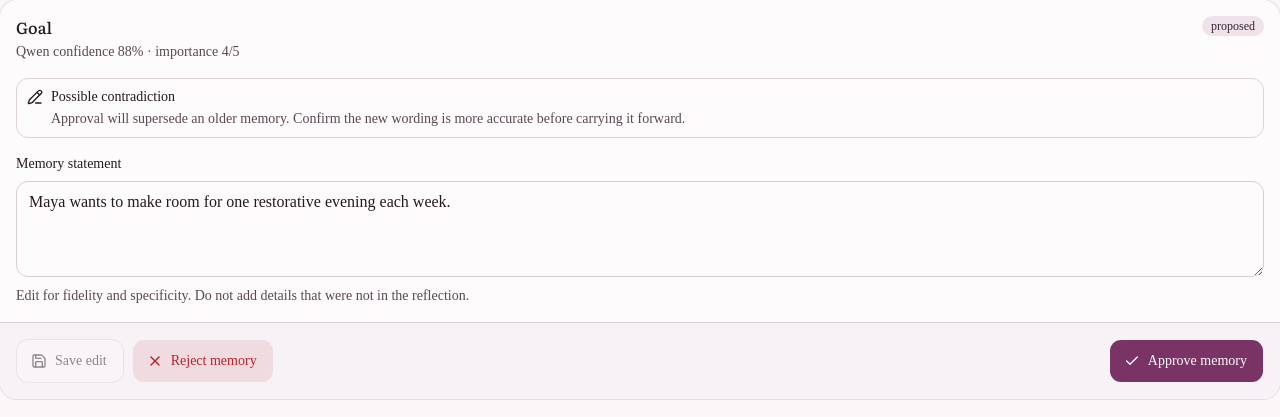
Test: clinician memory controls › marks an empty statement invalid and disables every destructive decision
This screenshot has width=1280, height=417.
Check: the text "Possible contradiction" is shown, box [51,89,175,104]
Clear the text box labelled "Memory statement" at [640, 229], box [16,181,1264,277]
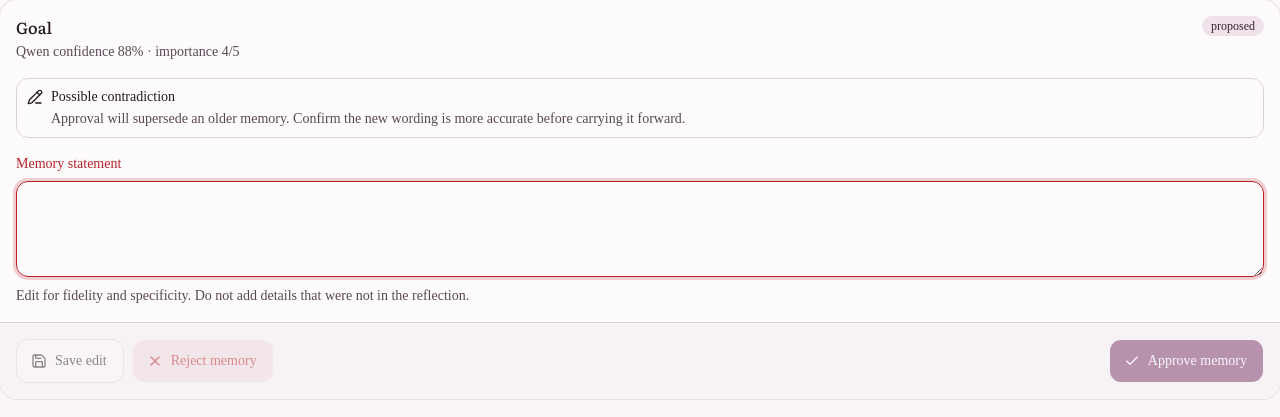
Check: the button "Save edit" is disabled, box [16,339,124,383]
Check: the button "Reject memory" is disabled, box [132,339,274,383]
Check: the button "Approve memory" is disabled, box [1109,339,1264,383]
